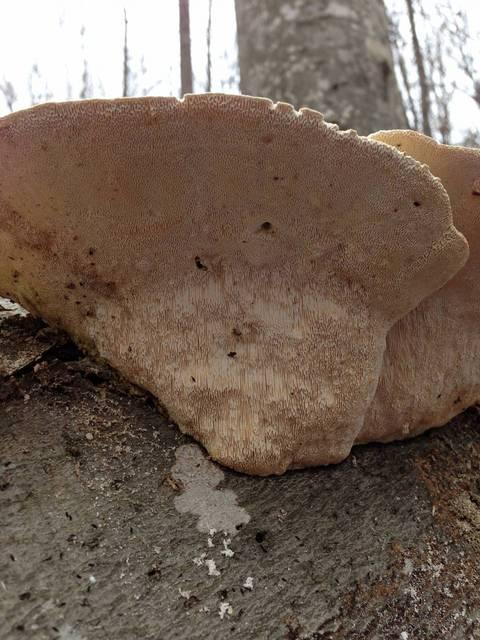poisonous_mushroom: (0, 91, 479, 477)
